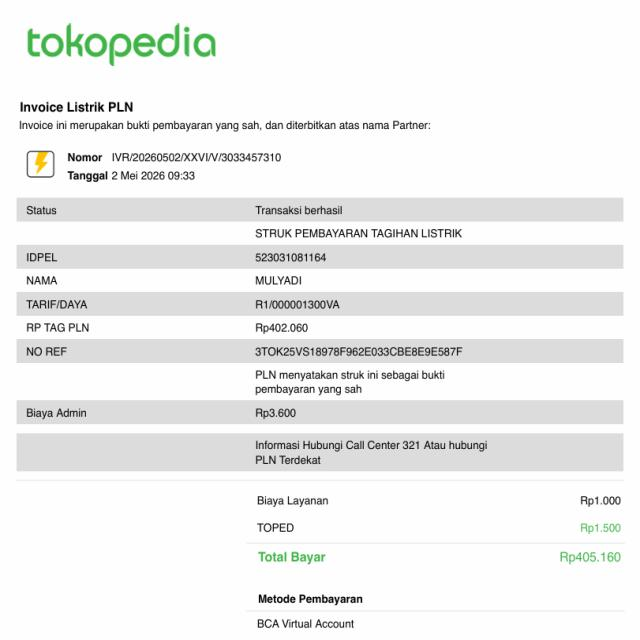date: (109, 170, 198, 184)
store: (24, 25, 225, 65), (18, 98, 138, 117)
total: (254, 546, 628, 571)
